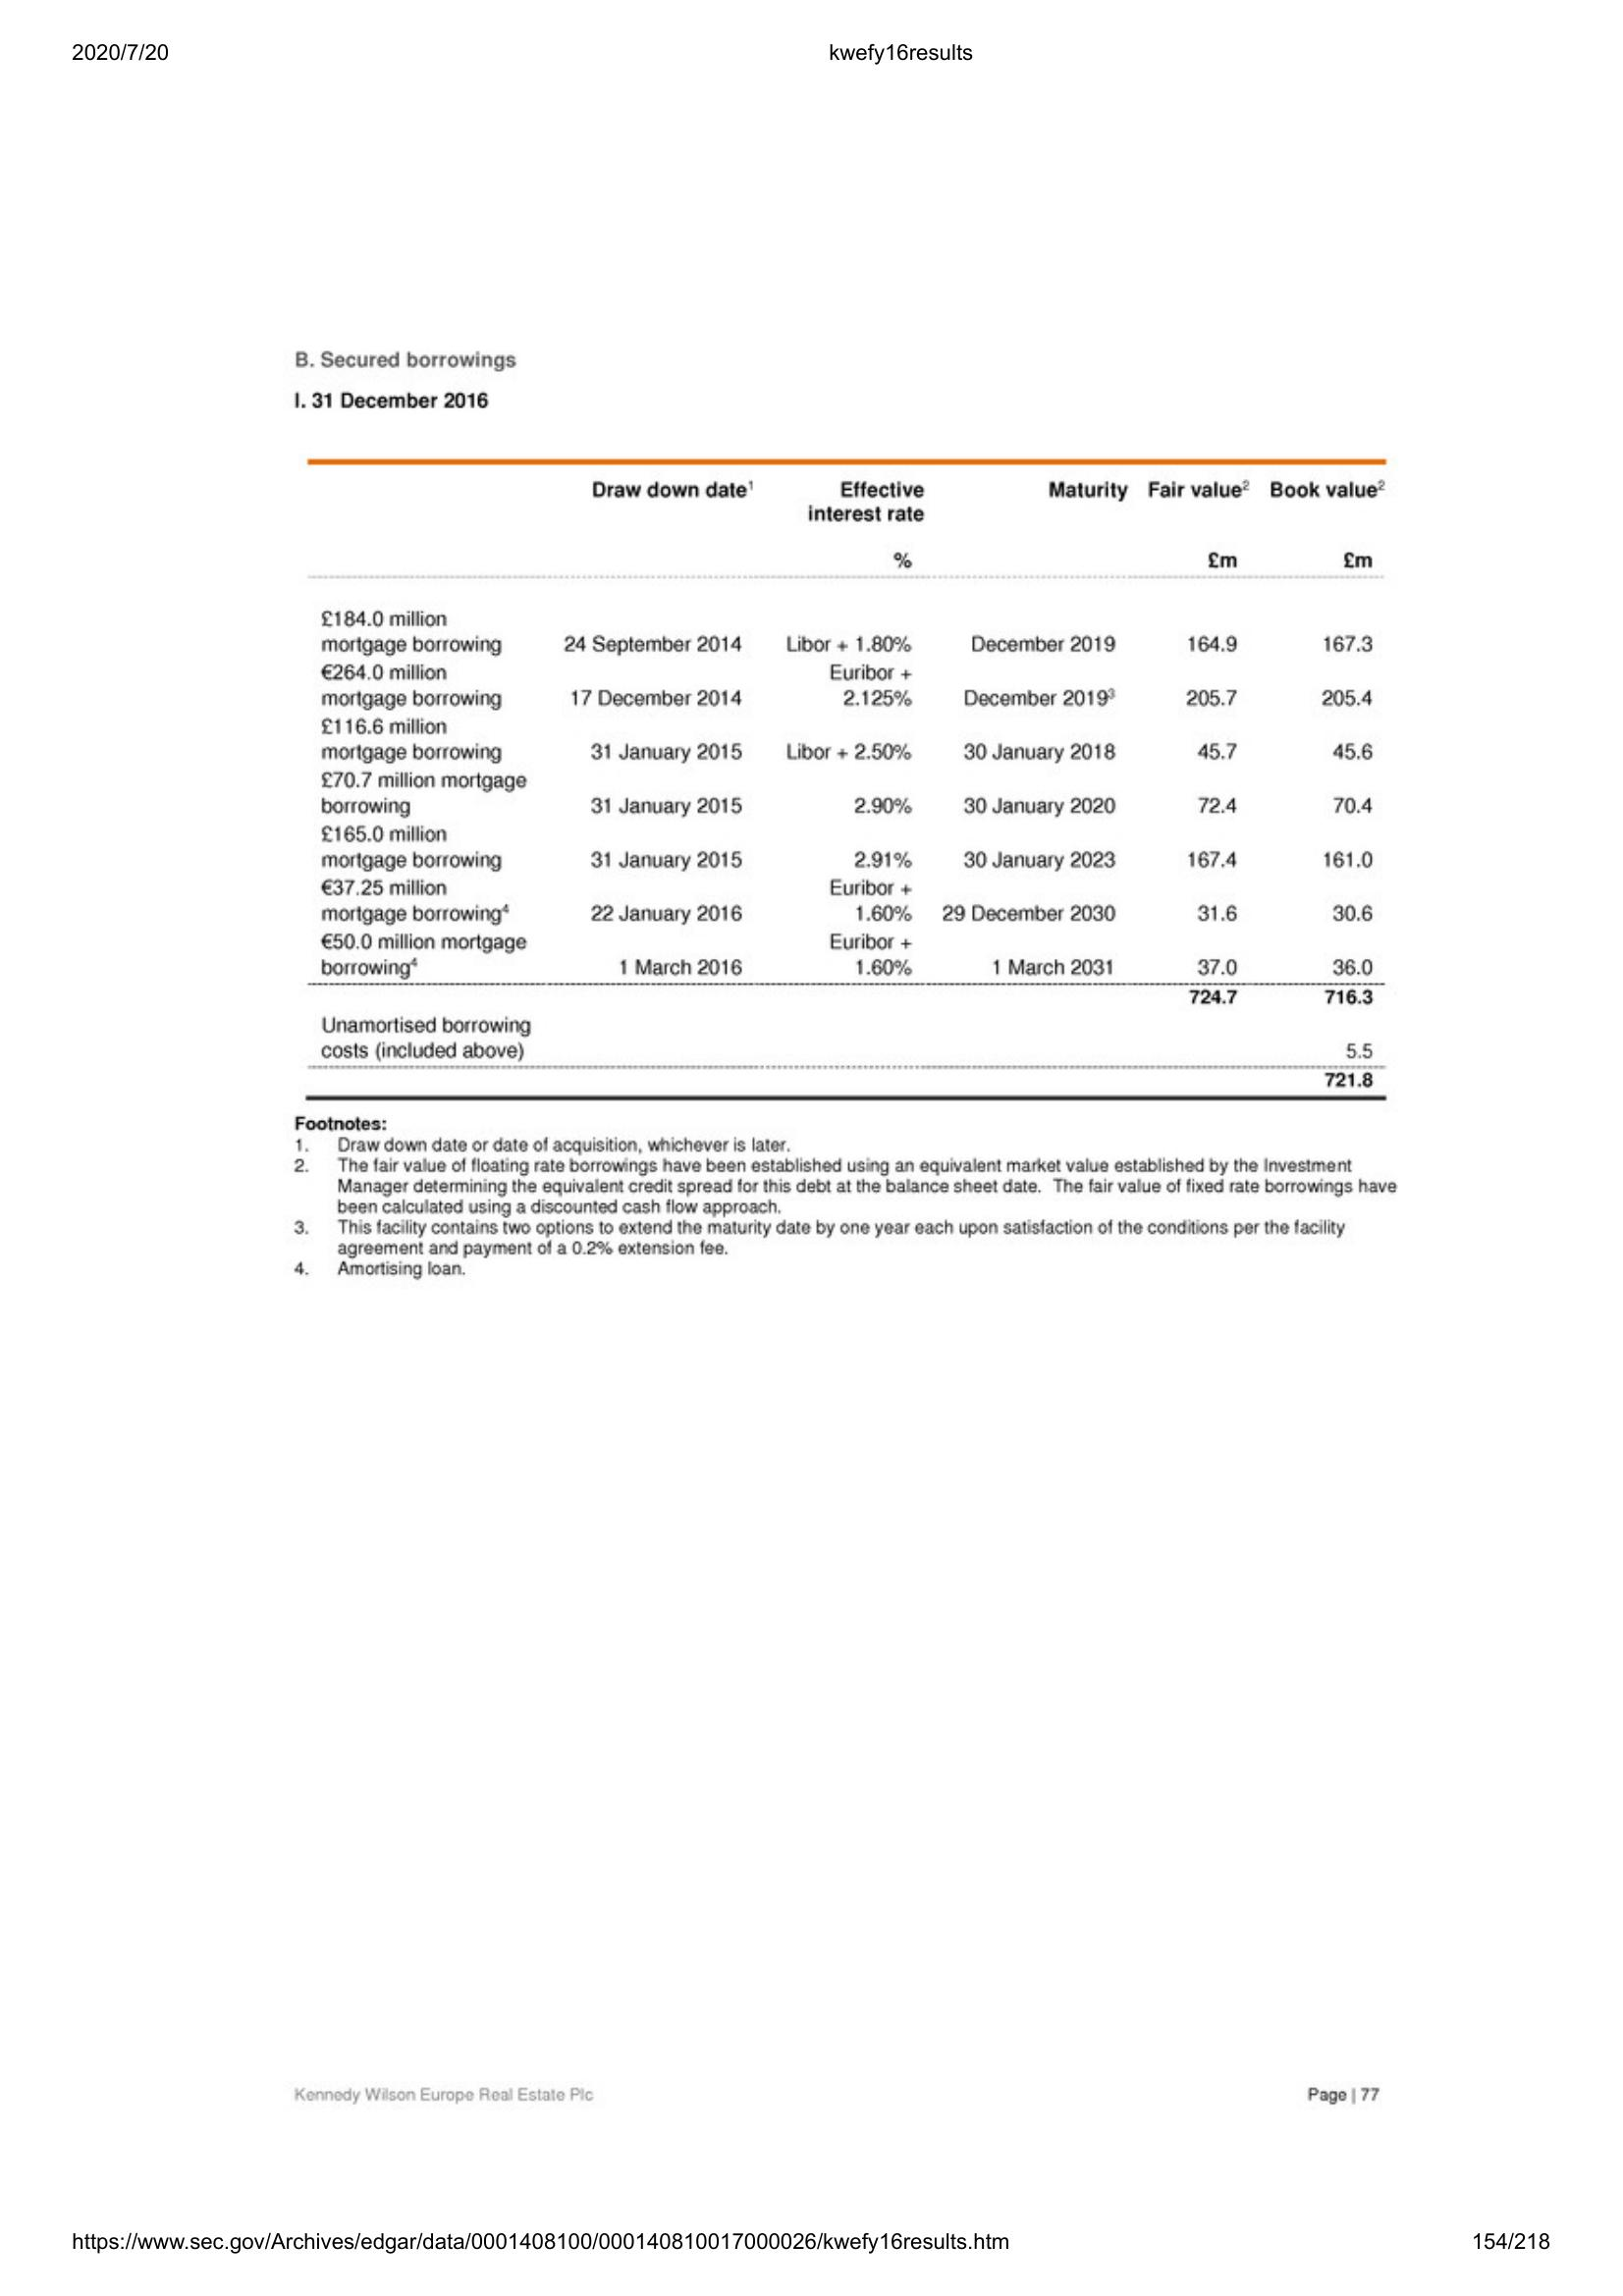table: (299, 455, 1395, 1113)
